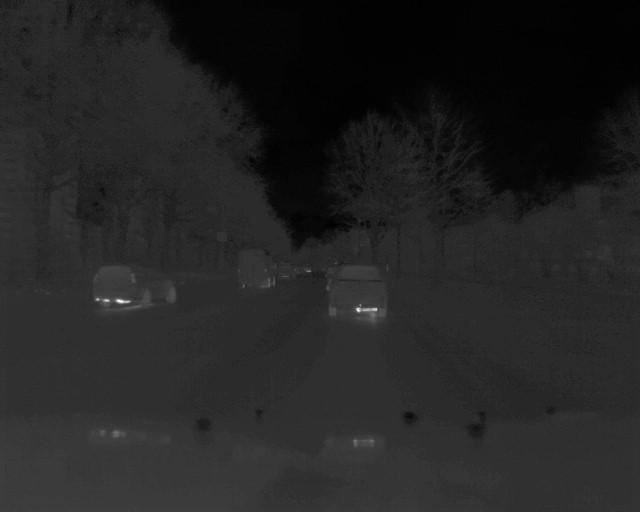car: (89, 261, 179, 308), (325, 260, 390, 320), (232, 246, 279, 292)
